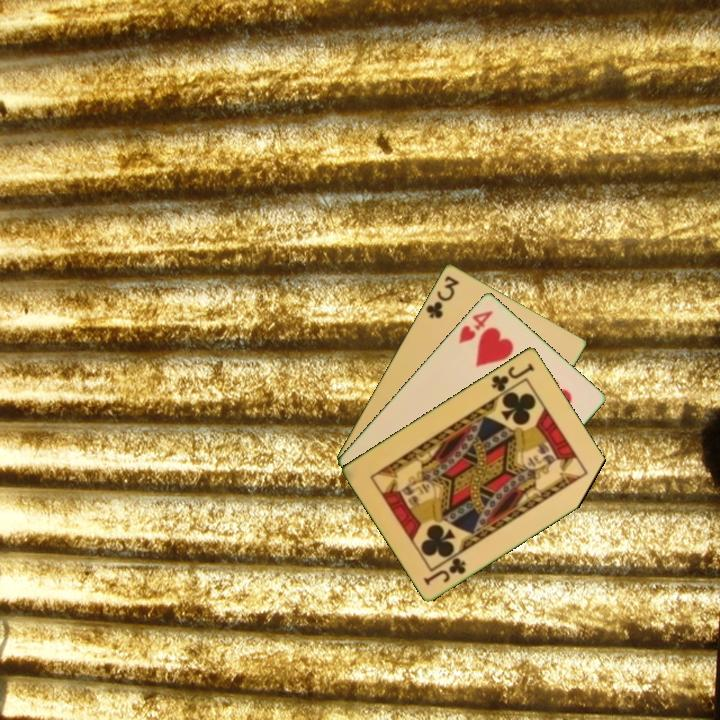3c: (422, 272, 462, 321)
4h: (455, 306, 496, 346)
Jc: (488, 359, 537, 395), (420, 553, 469, 588)
